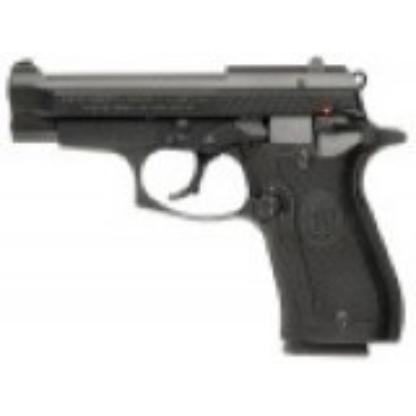gun: (9, 57, 410, 353)
